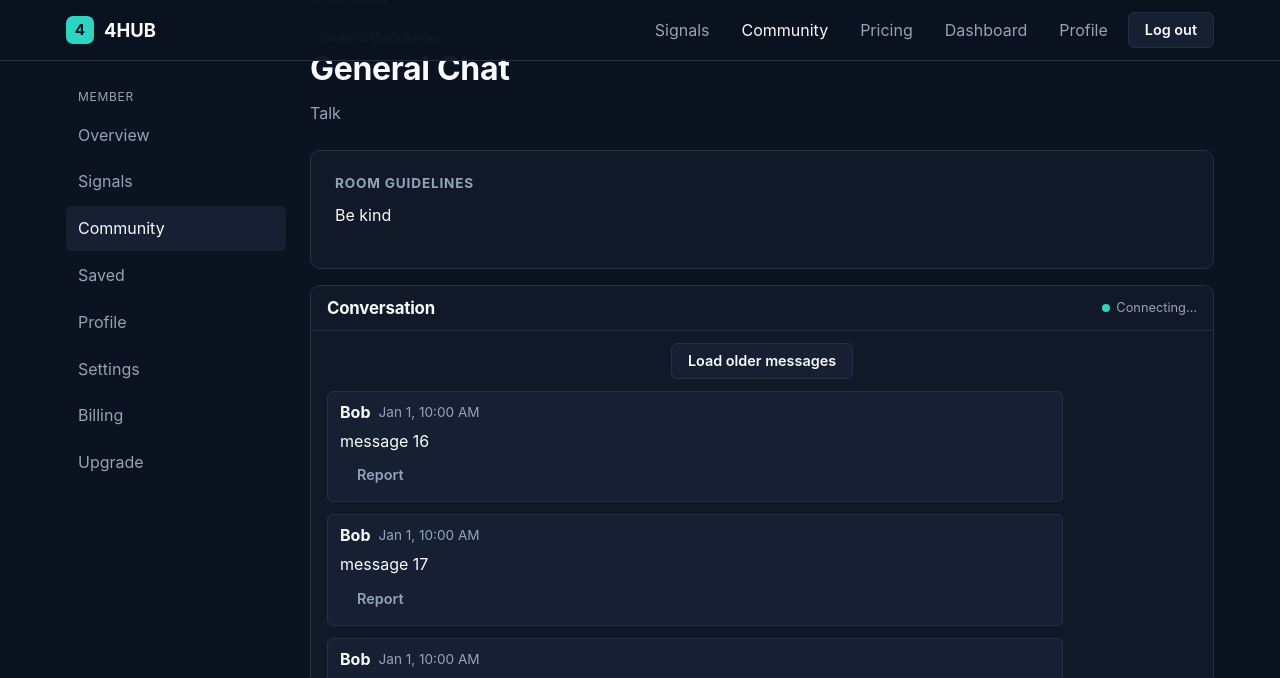
Scenario: message history › loads older messages on demand and keeps them in order
(page scrolled)
Click the button "Load older messages" at coordinates (762, 361), box 671,343 -> 853,379
(page scrolled)
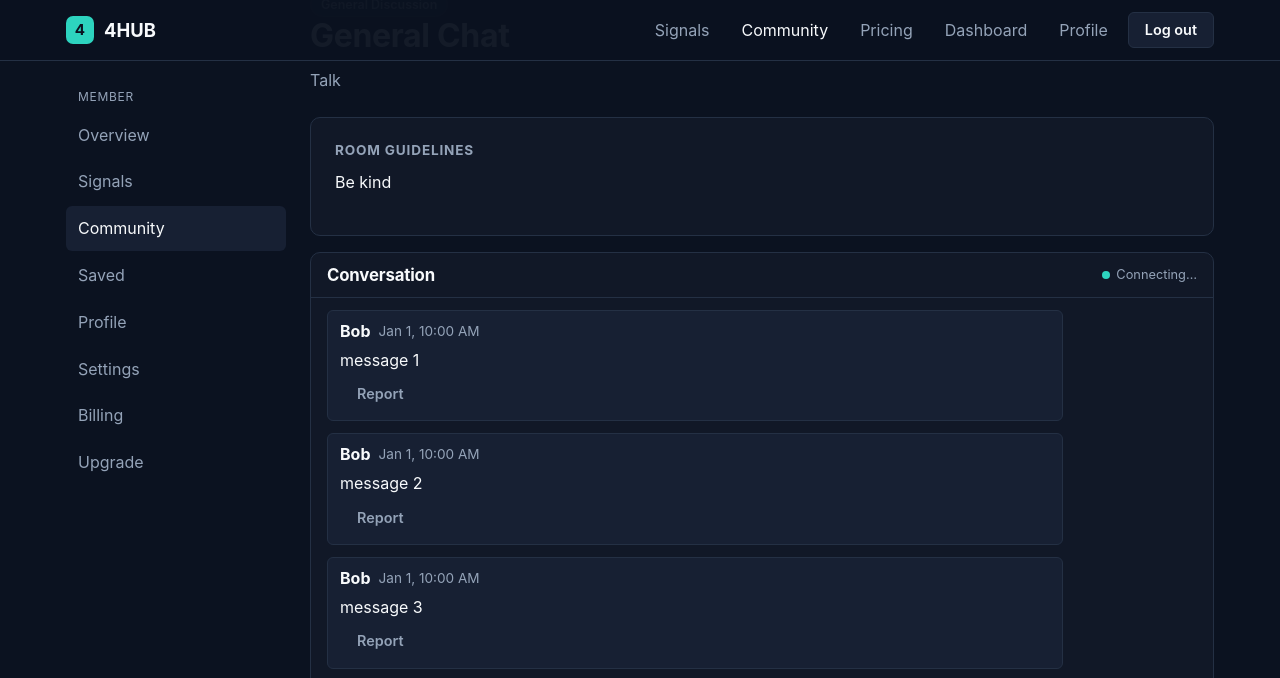
Expected: the text "message 1" is shown, 340,350 -> 419,370
Result: the button "Load older messages" is gone
